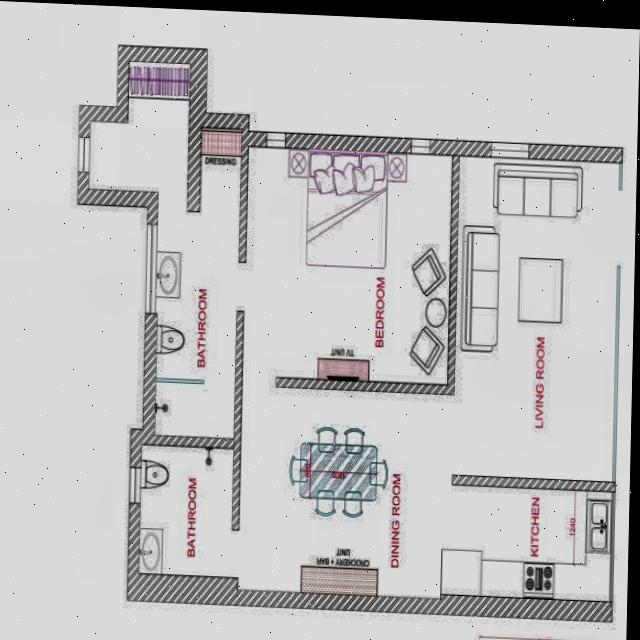room: (85, 62, 238, 436), (452, 154, 621, 481), (243, 145, 454, 383), (234, 388, 450, 594), (440, 484, 610, 604), (141, 446, 230, 573)
